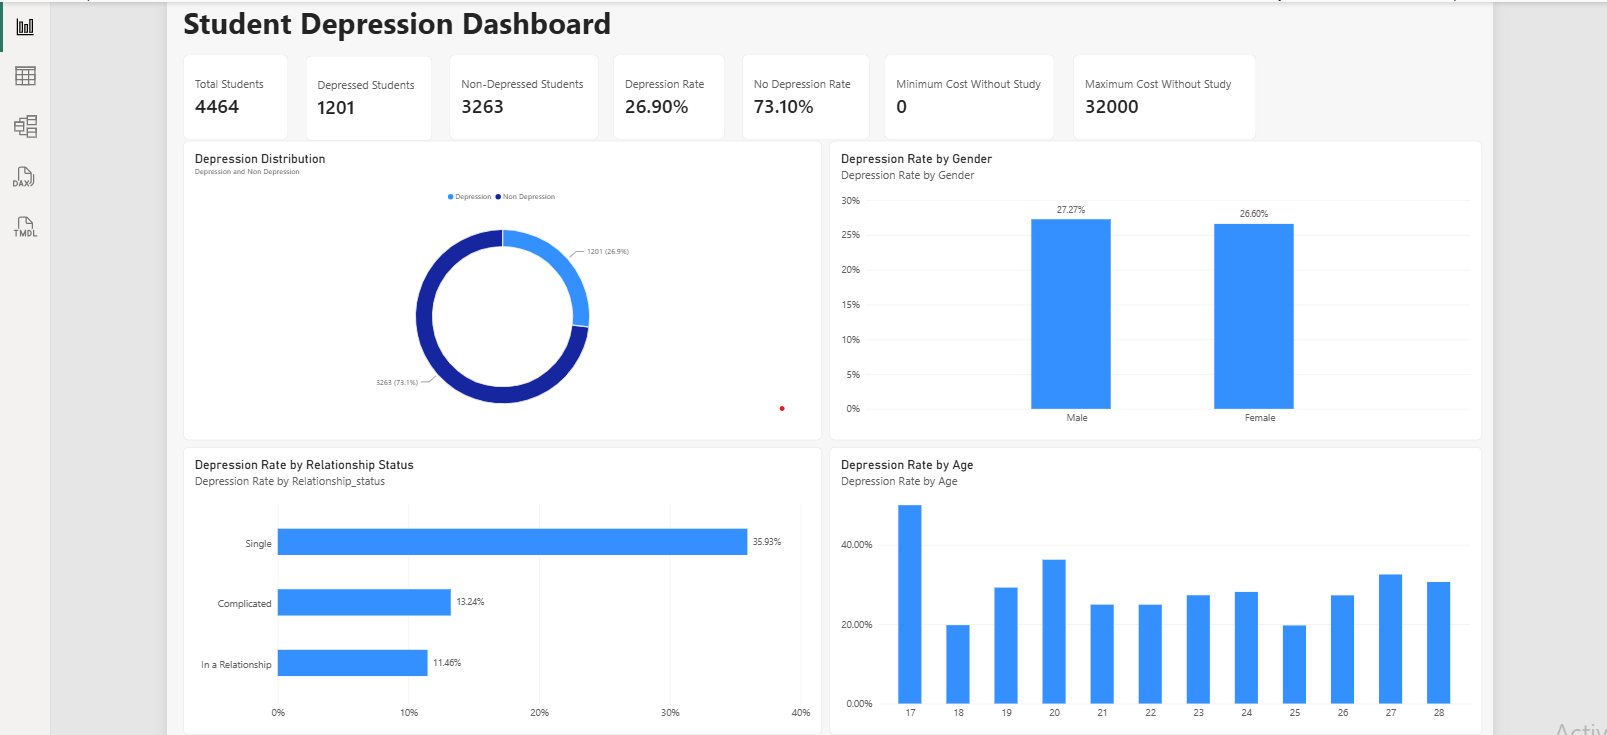

This screenshot's page, from the dashboard's own definition file:
{"tool":"powerbi","page":{"name":"Overview","canvas":[1920,1080],"ordinal":0},"visuals":[{"type":"cardVisual","title":"Total Students","fields":{"Data":["Student_Cleaned.Total_Student"]},"box":[23.3,76.7,152.3,123.5],"z":0},{"type":"cardVisual","fields":{"Data":["Student_Cleaned.Depression Count"]},"box":[201.7,78.3,183.2,123.5],"z":1000},{"type":"cardVisual","fields":{"Data":["Student_Cleaned.No Depression Count"]},"box":[408.3,76.7,216.7,123.3],"z":2000},{"type":"cardVisual","fields":{"Data":["Student_Cleaned.Depression Rate"]},"box":[646.7,76.7,162.6,123.5],"z":3000},{"type":"cardVisual","fields":{"Data":["Student_Cleaned.No Depression Rate"]},"box":[831.7,76.7,185.2,123.5],"z":4000},{"type":"donutChart","title":"Depression Distribution","fields":{"Y":["Student_Cleaned.Depression Count","Student_Cleaned.No Depression Count"]},"box":[23.3,201.7,925,433.3],"z":5000},{"type":"clusteredColumnChart","title":"Depression Rate by Gender","fields":{"Category":["Student_Cleaned.Gender"],"Y":["Student_Cleaned.Depression Rate"]},"box":[960,201.7,945,433.3],"z":6000},{"type":"clusteredBarChart","title":"Depression Rate by Relationship Status","fields":{"Category":["Student_Cleaned.Relationship_status"],"Y":["Student_Cleaned.Depression Rate"]},"box":[23.3,645,925,416.7],"z":7000},{"type":"columnChart","title":"Depression Rate by Age","fields":{"Category":["Student_Cleaned.Age"],"Y":["Student_Cleaned.Depression Rate"]},"box":[960,645,945,416.7],"z":8000},{"type":"cardVisual","fields":{"Data":["Student_Cleaned.Min Cost"]},"box":[1038.3,76.7,246.7,123.3],"z":9000},{"type":"cardVisual","fields":{"Data":["Student_Cleaned.Max Cost"]},"box":[1311.7,76.7,265,123.3],"z":10000},{"type":"textbox","box":[24,0,636,62],"z":11000}]}

Visuals, with their boxes on the page's 1920x1080 design canvas (x1, y1, x2, y2). These are canvas units, not pixel positions in the 1607x735 screenshot, which may show the page scaled, cropped or inside an application window:
"Total Students" cardVisual: box(23, 77, 176, 200)
cardVisual - Student_Cleaned.Depression Count: box(202, 78, 385, 202)
cardVisual - Student_Cleaned.No Depression Count: box(408, 77, 625, 200)
cardVisual - Student_Cleaned.Depression Rate: box(647, 77, 809, 200)
cardVisual - Student_Cleaned.No Depression Rate: box(832, 77, 1017, 200)
"Depression Distribution" donutChart: box(23, 202, 948, 635)
"Depression Rate by Gender" clusteredColumnChart: box(960, 202, 1905, 635)
"Depression Rate by Relationship Status" clusteredBarChart: box(23, 645, 948, 1062)
"Depression Rate by Age" columnChart: box(960, 645, 1905, 1062)
cardVisual - Student_Cleaned.Min Cost: box(1038, 77, 1285, 200)
cardVisual - Student_Cleaned.Max Cost: box(1312, 77, 1577, 200)
textbox: box(24, 0, 660, 62)
